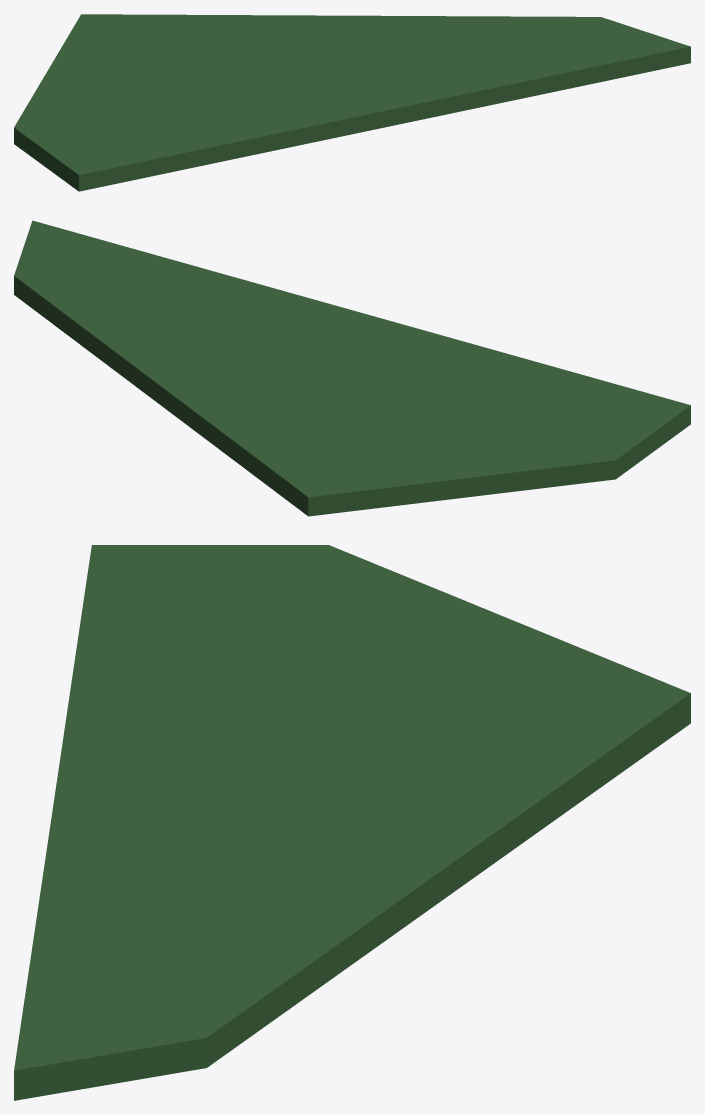
File: x_proval_00_73_1_rmstrd.fbx
3 views of the same model, one above another, from view 1: azimuth 30°, elevation 25°; view 2: azimuth 150°, elevation 25°; view 3: azimuth 270°, elevation 25° (orthographic). The views are drawn at different scales.
Parts seen in each view (by area): view 1: x_proval_00_73_1_rmstrd1; view 2: x_proval_00_73_1_rmstrd1; view 3: x_proval_00_73_1_rmstrd1.
Part boxes in pixels (left/top/right/bottom): x_proval_00_73_1_rmstrd1: left=14, top=14, right=690, bottom=191; x_proval_00_73_1_rmstrd1: left=14, top=220, right=690, bottom=516; x_proval_00_73_1_rmstrd1: left=14, top=545, right=690, bottom=1100.
Size of the model in its own units: 7.46 by 0.2 by 4.06.
